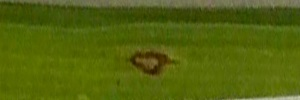RiceBlast: (126, 45, 180, 80)
